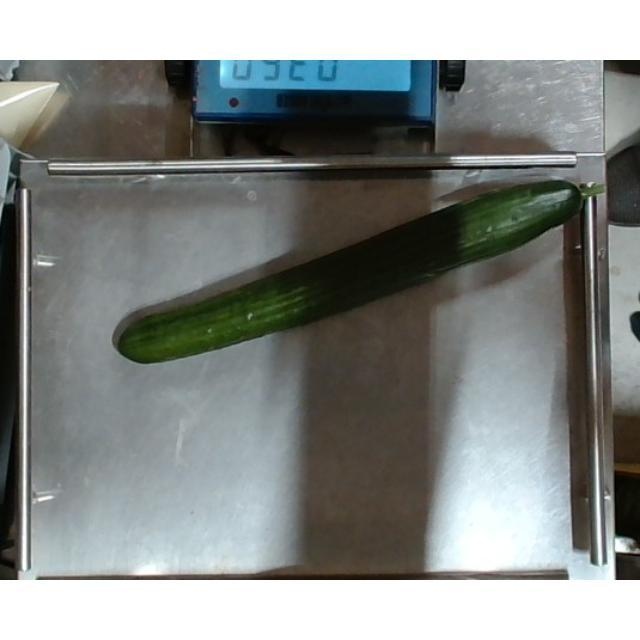cucumber: (112, 180, 610, 366)
